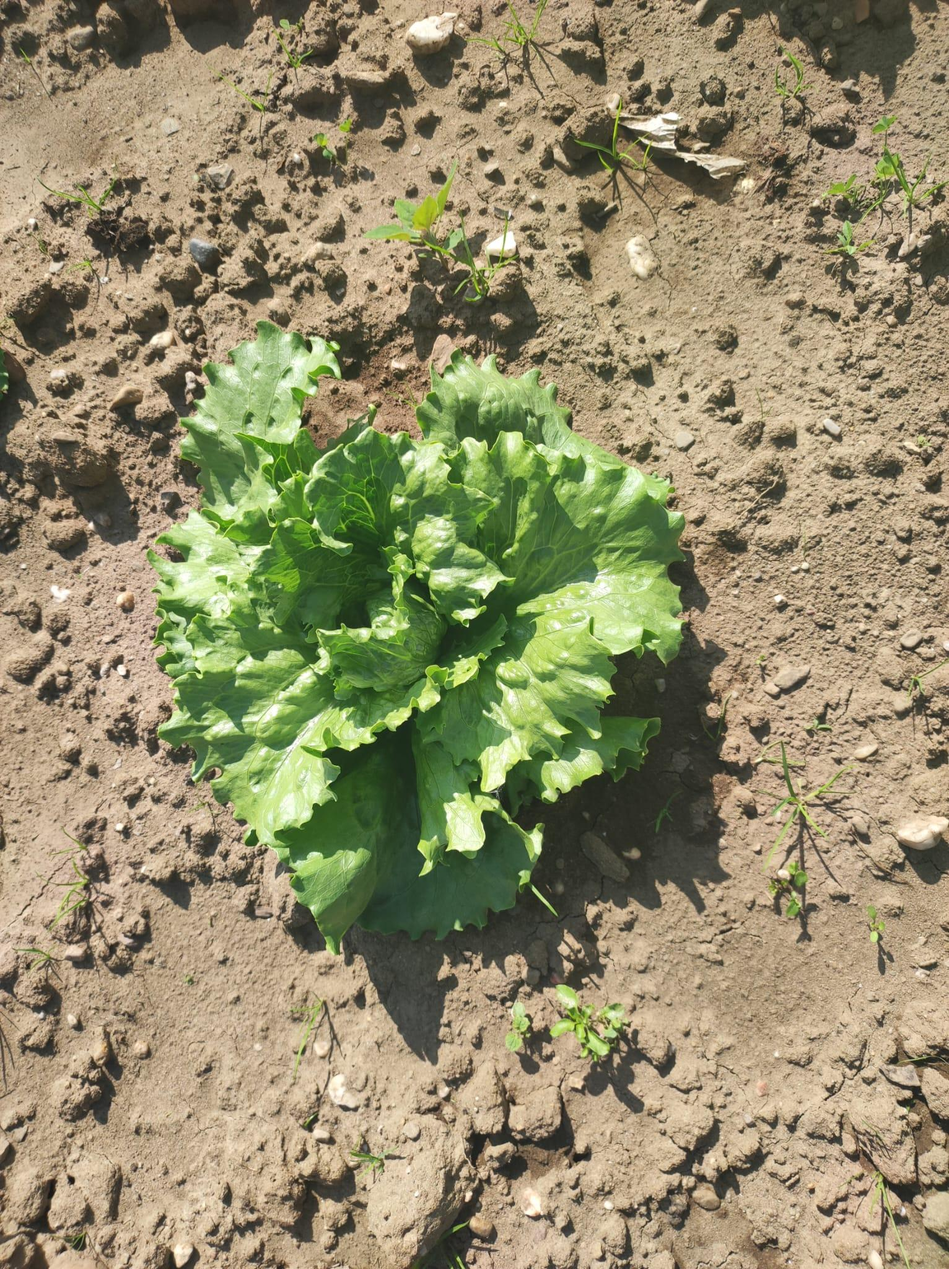Healthy: (149, 322, 683, 952)
